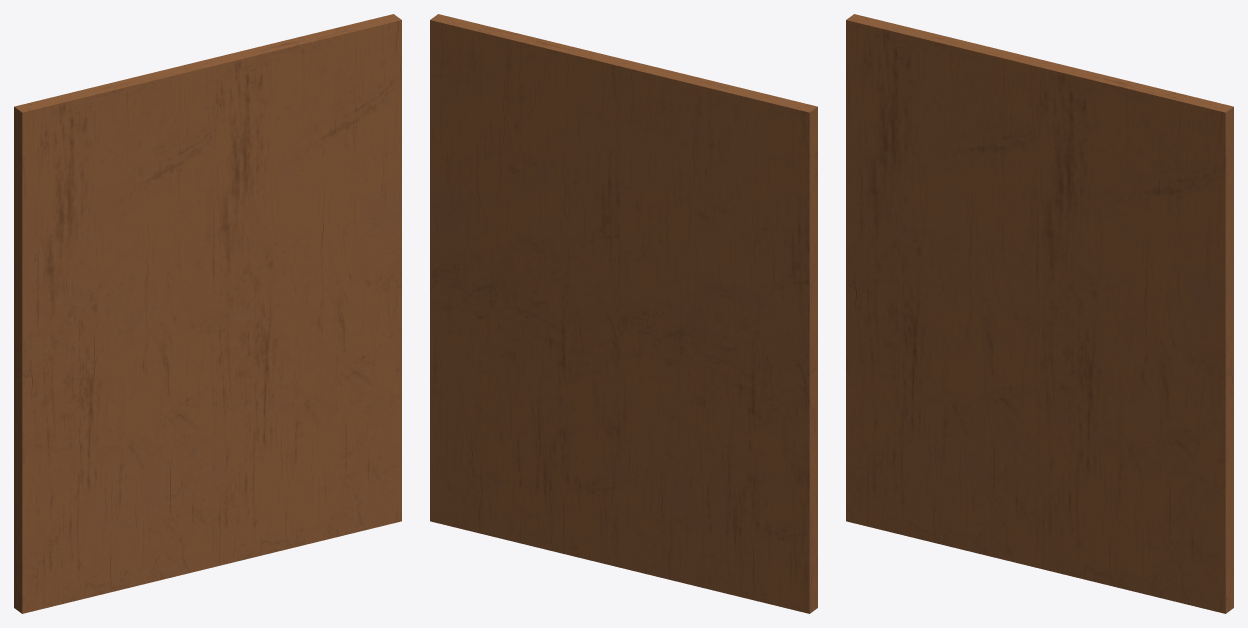
The model's file is Door_FotoRoom_B.fbx.
The picture shows the model from 3 angles, left to right: view 1: azimuth 30°, elevation 25°; view 2: azimuth 150°, elevation 25°; view 3: azimuth 330°, elevation 25°; orthographic projection.
Parts seen in each view (by area): view 1: Door_SecRoom_A, Door_FotoRoom_B; view 2: Door_SecRoom_A, Door_FotoRoom_B; view 3: Door_FotoRoom_B, Door_SecRoom_A.
Boxes of the visible parts, bbox=[...] form: Door_SecRoom_A: bbox=[14, 60, 211, 613]; Door_FotoRoom_B: bbox=[204, 14, 401, 567]; Door_SecRoom_A: bbox=[620, 60, 817, 613]; Door_FotoRoom_B: bbox=[430, 14, 627, 567]; Door_FotoRoom_B: bbox=[1036, 60, 1233, 613]; Door_SecRoom_A: bbox=[846, 14, 1043, 567].
Size of the model in its own units: 1.6 by 0.06 by 2.01.
Materials: 2 (2 with a texture image).
